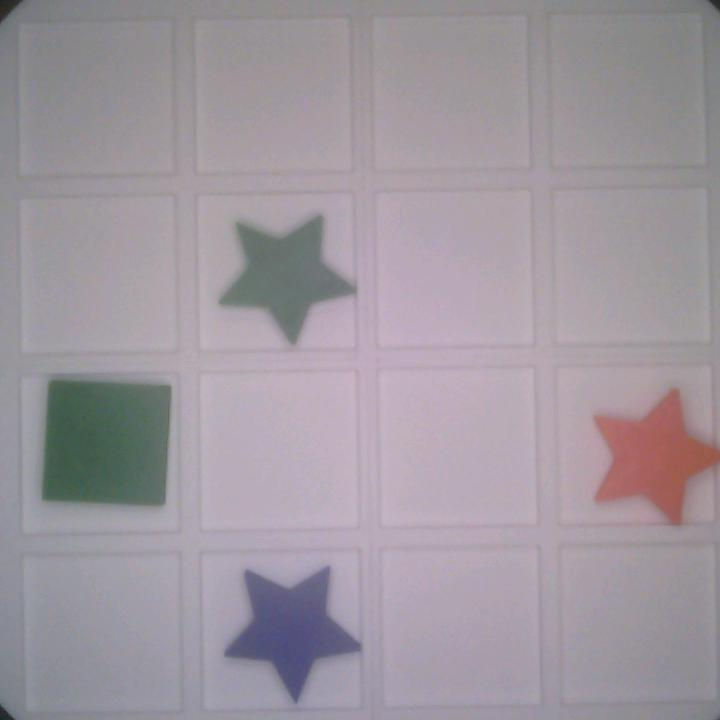Blue star: (219, 561, 363, 708)
Green square: (35, 373, 174, 516)
Green star: (216, 209, 354, 347)
Orange star: (587, 378, 715, 526)
